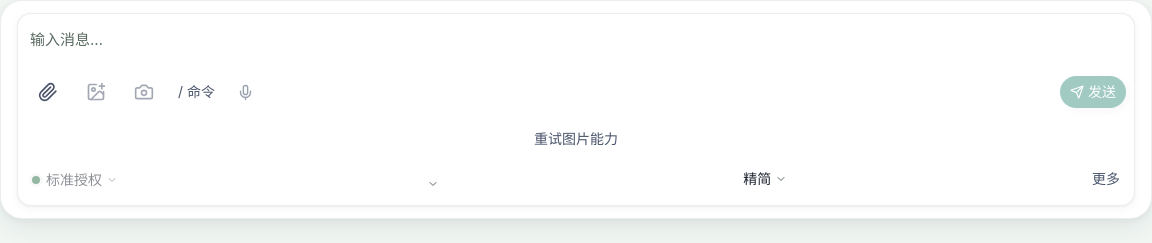
Test: 命令位于附件和语音之间，点击打开斜杠命令入口
Click the button "/ 命令".
click(196, 92)  # box x1=170 y1=70 x2=223 y2=114
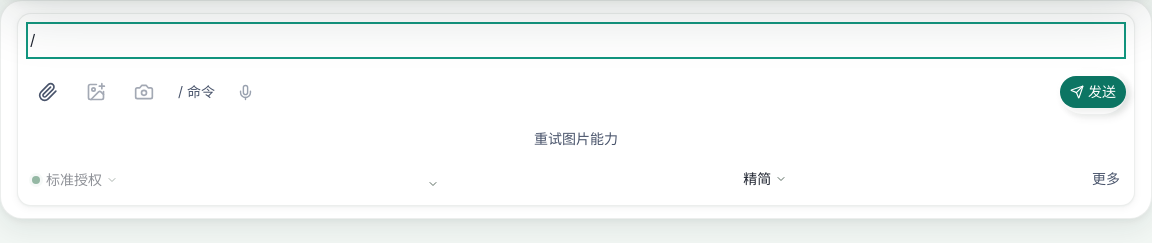
Expected: the text box holds "/", x1=30 y1=26 x2=1122 y2=55
